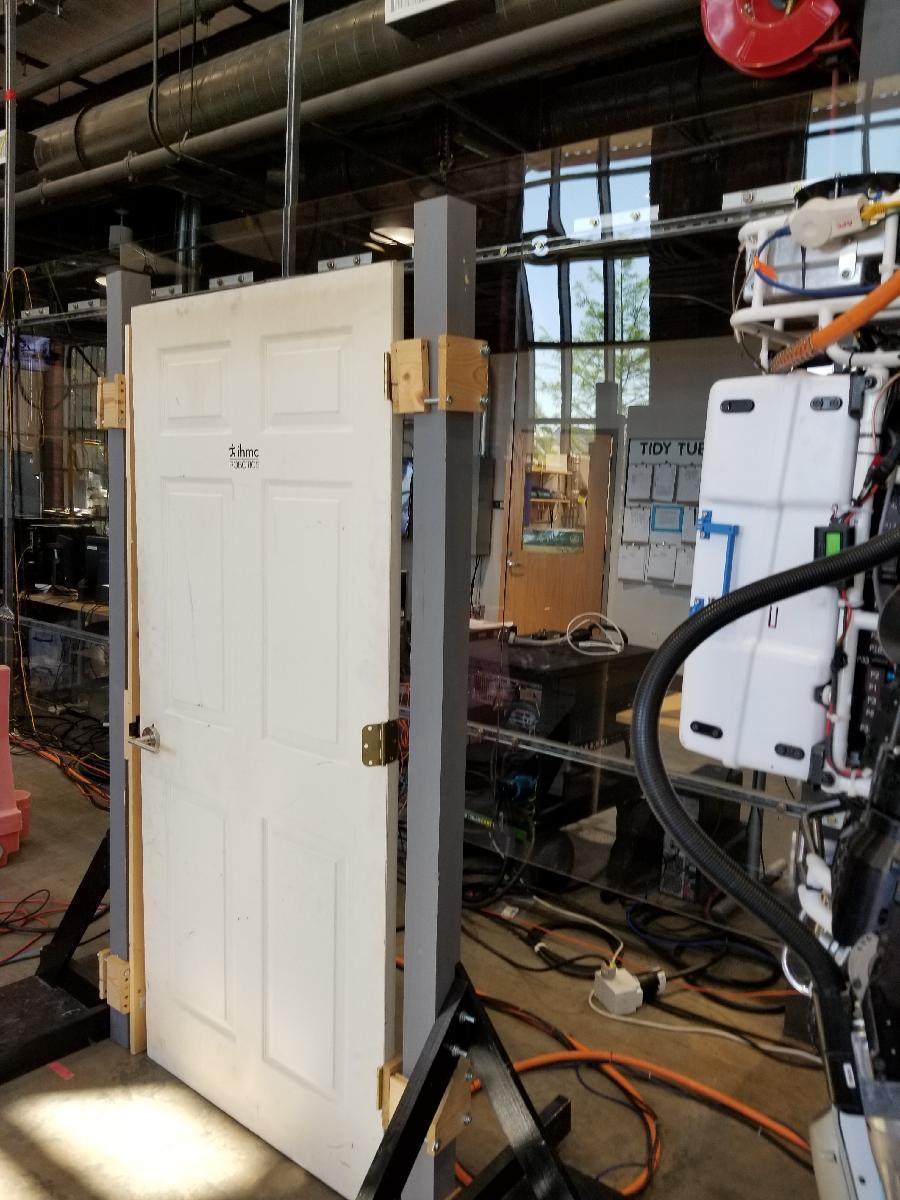door: (134, 296, 402, 1173)
handle: (128, 724, 164, 758)
